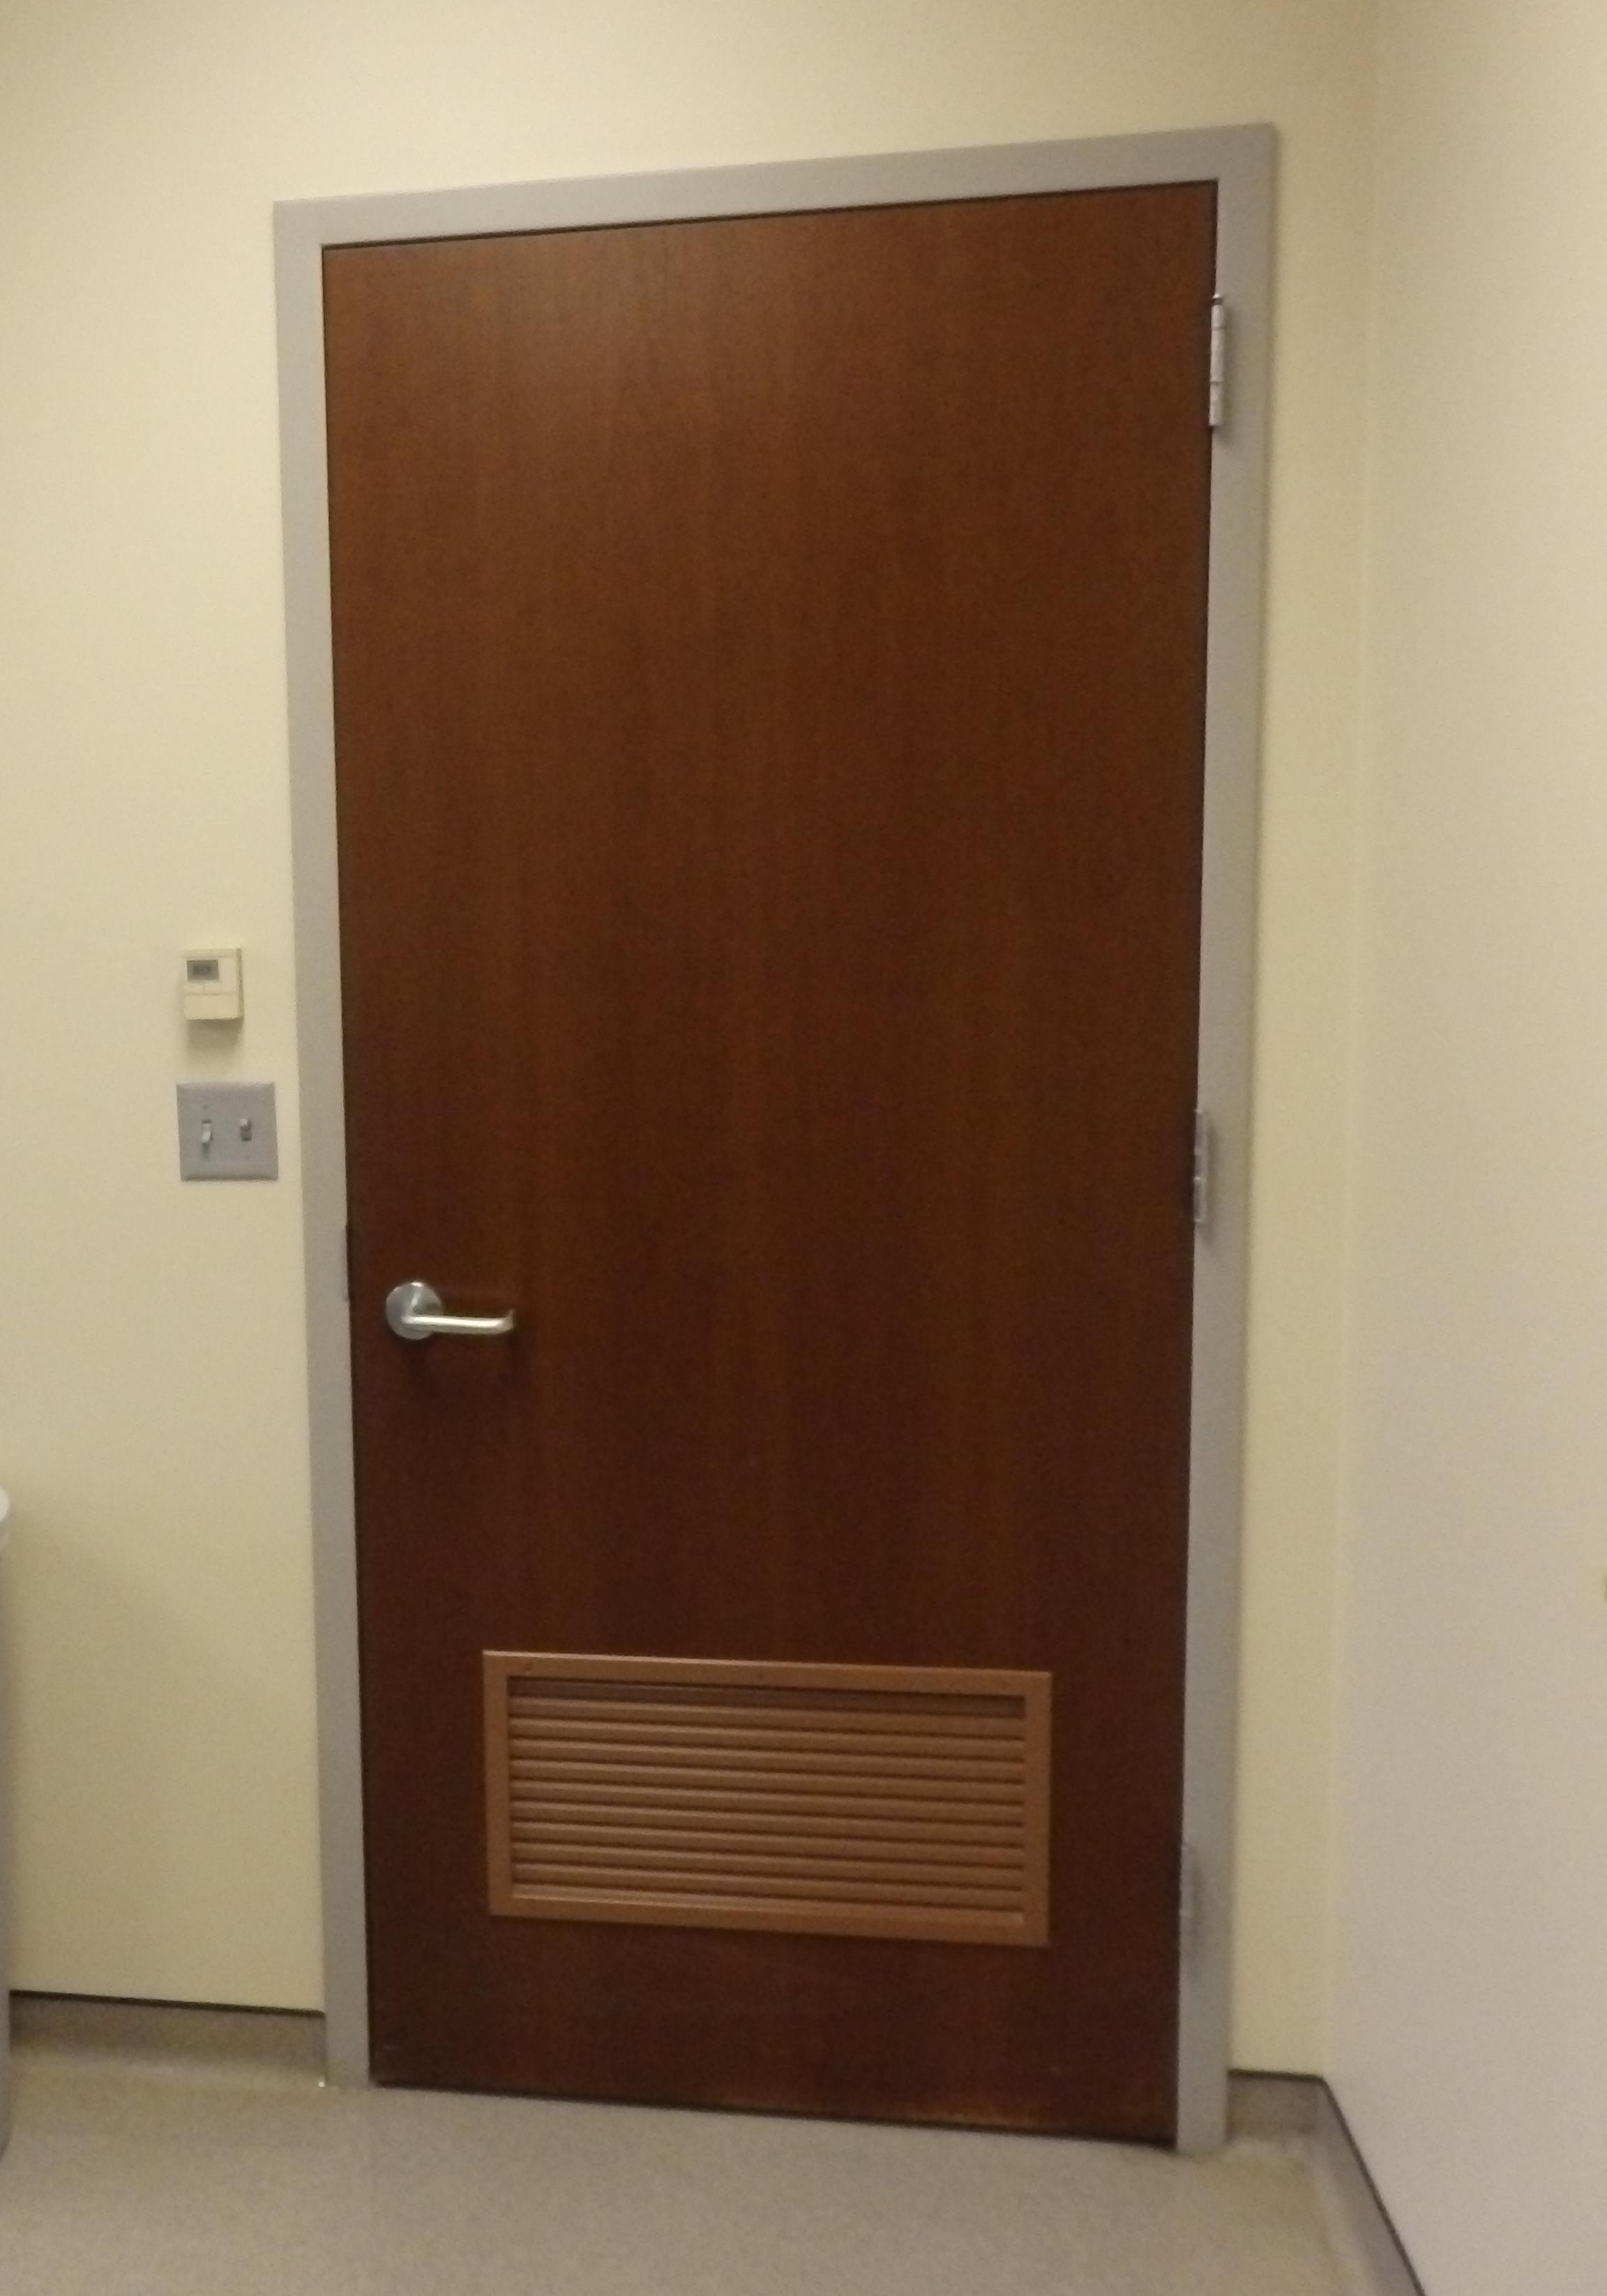door: (265, 187, 1255, 2146)
